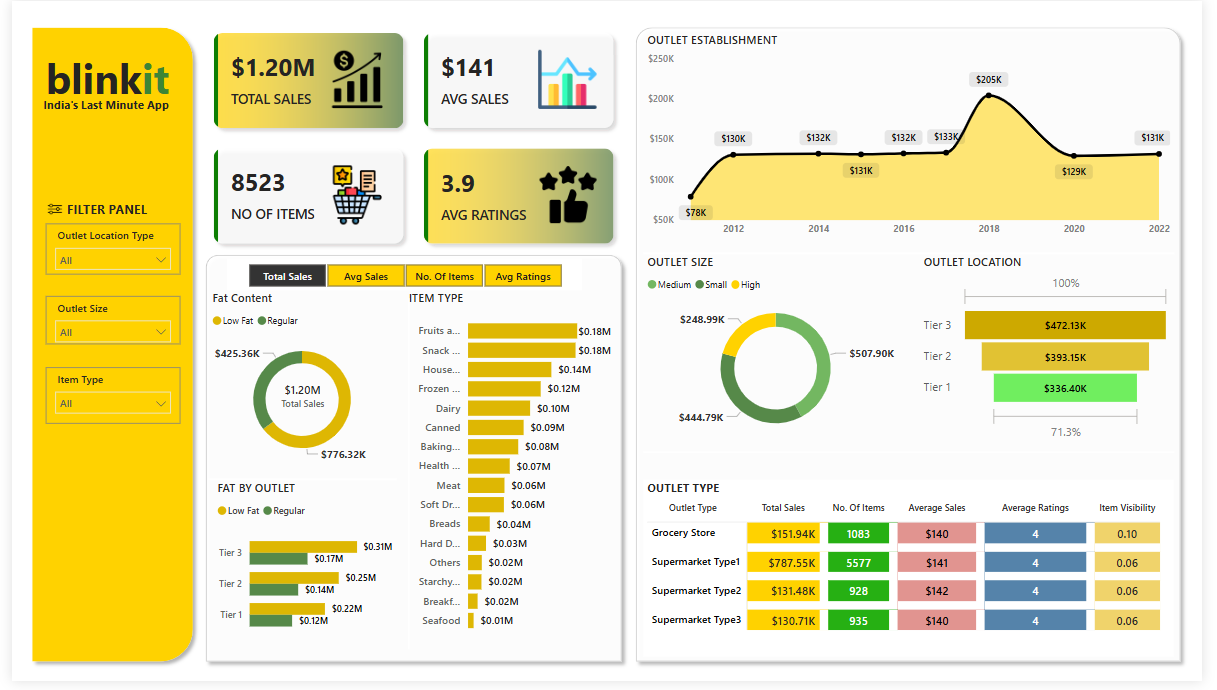

The dashboard page shown, as its layout file describes it:
{"tool":"powerbi","page":{"name":"Page 1","canvas":[1400,800],"ordinal":0},"visuals":[{"type":"shape","box":[14.3,21.4,207.1,764.3],"z":0},{"type":"textbox","box":[29.7,53.1,165.6,89.1],"z":1000},{"type":"textbox","box":[39.7,63.1,165.6,89.1],"z":2000},{"type":"textbox","box":[10.9,107.8,204.7,53.1],"z":3000},{"type":"cardVisual","fields":{"Data":["BlinkIT Grocery Data.Total Sales","BlinkIT Grocery Data.Avg Sales","BlinkIT Grocery Data.No. Of Items","BlinkIT Grocery Data.Avg Ratings"]},"box":[220.3,20.3,505.8,282.6],"z":4000},{"type":"shape","box":[219.6,289.3,507.1,496.4],"z":5000},{"type":"donutChart","title":"Fat Content","fields":{"Y":["BlinkIT Grocery Data.Total Sales"],"Category":["BlinkIT Grocery Data.Item Fat Content"]},"box":[230.6,340.3,220.8,213.9],"z":6000},{"type":"slicer","fields":{"Values":["Metrics.Metrics"]},"box":[253.6,302.9,417.4,37.7],"z":7000},{"type":"cardVisual","fields":{"Data":["BlinkIT Grocery Data.Total Sales"]},"box":[295.4,430.8,93.8,66.2],"z":8000},{"type":"clusteredBarChart","title":"FAT BY OUTLET","fields":{"Y":["BlinkIT Grocery Data.Total Sales"],"Category":["BlinkIT Grocery Data.Outlet Location Type"],"Series":["BlinkIT Grocery Data.Item Fat Content"]},"box":[237.1,562.9,216.1,193.5],"z":9000},{"type":"shape","box":[230.8,553.8,221.8,16.7],"z":10000},{"type":"shape","box":[1035.7,285.7,39.3,235.7],"z":11000},{"type":"barChart","title":"ITEM TYPE","fields":{"Y":["BlinkIT Grocery Data.Total Sales"],"Category":["BlinkIT Grocery Data.Item Type"]},"box":[461.4,340,248.6,412.9],"z":12000},{"type":"shape","box":[725,21.4,658.9,764.3],"z":13000},{"type":"lineChart","title":"OUTLET ESTABLISHMENT","fields":{"Y":["BlinkIT Grocery Data.Total Sales"],"Category":["BlinkIT Grocery Data.Outlet Establishment Year"]},"box":[742.9,37.5,625,248.2],"z":14000},{"type":"shape","box":[742.9,289.3,625,14.3],"z":15000},{"type":"donutChart","title":"OUTLET SIZE","fields":{"Y":["BlinkIT Grocery Data.Total Sales"],"Category":["BlinkIT Grocery Data.Outlet Size"]},"box":[742.9,296.4,312.5,225],"z":16000},{"type":"shape","box":[461.4,350,10,412.9],"z":17000},{"type":"funnel","title":"OUTLET LOCATION","fields":{"Y":["BlinkIT Grocery Data.Total Sales"],"Category":["BlinkIT Grocery Data.Outlet Location Type"]},"box":[1067.9,296.4,300,225],"z":18000},{"type":"shape","box":[742.9,523.2,625,14.3],"z":19000},{"type":"pivotTable","title":"OUTLET TYPE","fields":{"Rows":["BlinkIT Grocery Data.Outlet Type"],"Values":["BlinkIT Grocery Data.Total Sales","BlinkIT Grocery Data.No. Of Items","BlinkIT Grocery Data.Avg Sales","BlinkIT Grocery Data.Avg Ratings","Avg(BlinkIT Grocery Data.Item Visibility)"]},"box":[741.9,562.9,624.2,208.1],"z":20000},{"type":"slicer","fields":{"Values":["BlinkIT Grocery Data.Outlet Location Type"]},"box":[40.3,261.3,158.1,59.7],"z":21000},{"type":"slicer","fields":{"Values":["BlinkIT Grocery Data.Outlet Size"]},"box":[40.3,346.8,158.1,56.5],"z":22000},{"type":"slicer","fields":{"Values":["BlinkIT Grocery Data.Item Type"]},"box":[40.3,430.6,158.1,66.1],"z":23000},{"type":"textbox","box":[29,100,177.4,51.6],"z":24000},{"type":"textbox","box":[35.5,229,153.2,32.3],"z":25000},{"type":"image","box":[35.7,228.6,30.7,32.9],"z":25001}]}

Visuals, with their boxes in screenshot pixels (x1, y1, x2, y2), scaled from the page's 1400x800 canvas onto the 1217x690 screenshot:
shape: 12:18:192:678
textbox: 26:46:170:123
textbox: 35:54:178:131
textbox: 9:93:187:139
cardVisual - BlinkIT Grocery Data.Total Sales x BlinkIT Grocery Data.Avg Sales: 192:18:631:261
shape: 191:250:632:678
"Fat Content" donutChart: 200:294:392:478
slicer - Metrics.Metrics: 220:261:583:294
cardVisual - BlinkIT Grocery Data.Total Sales: 257:372:338:429
"FAT BY OUTLET" clusteredBarChart: 206:486:394:652
shape: 201:478:393:492
shape: 900:246:934:450
"ITEM TYPE" barChart: 401:293:617:649
shape: 630:18:1203:678
"OUTLET ESTABLISHMENT" lineChart: 646:32:1189:246
shape: 646:250:1189:262
"OUTLET SIZE" donutChart: 646:256:917:450
shape: 401:302:410:658
"OUTLET LOCATION" funnel: 928:256:1189:450
shape: 646:451:1189:464
"OUTLET TYPE" pivotTable: 645:486:1188:665
slicer - BlinkIT Grocery Data.Outlet Location Type: 35:225:172:277
slicer - BlinkIT Grocery Data.Outlet Size: 35:299:172:348
slicer - BlinkIT Grocery Data.Item Type: 35:371:172:428
textbox: 25:86:179:131
textbox: 31:198:164:225
image: 31:197:58:226
